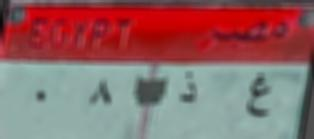0: (25, 81, 57, 112)
8: (82, 75, 120, 110)
ghayn: (238, 68, 273, 120)
zaal: (172, 70, 202, 111)
